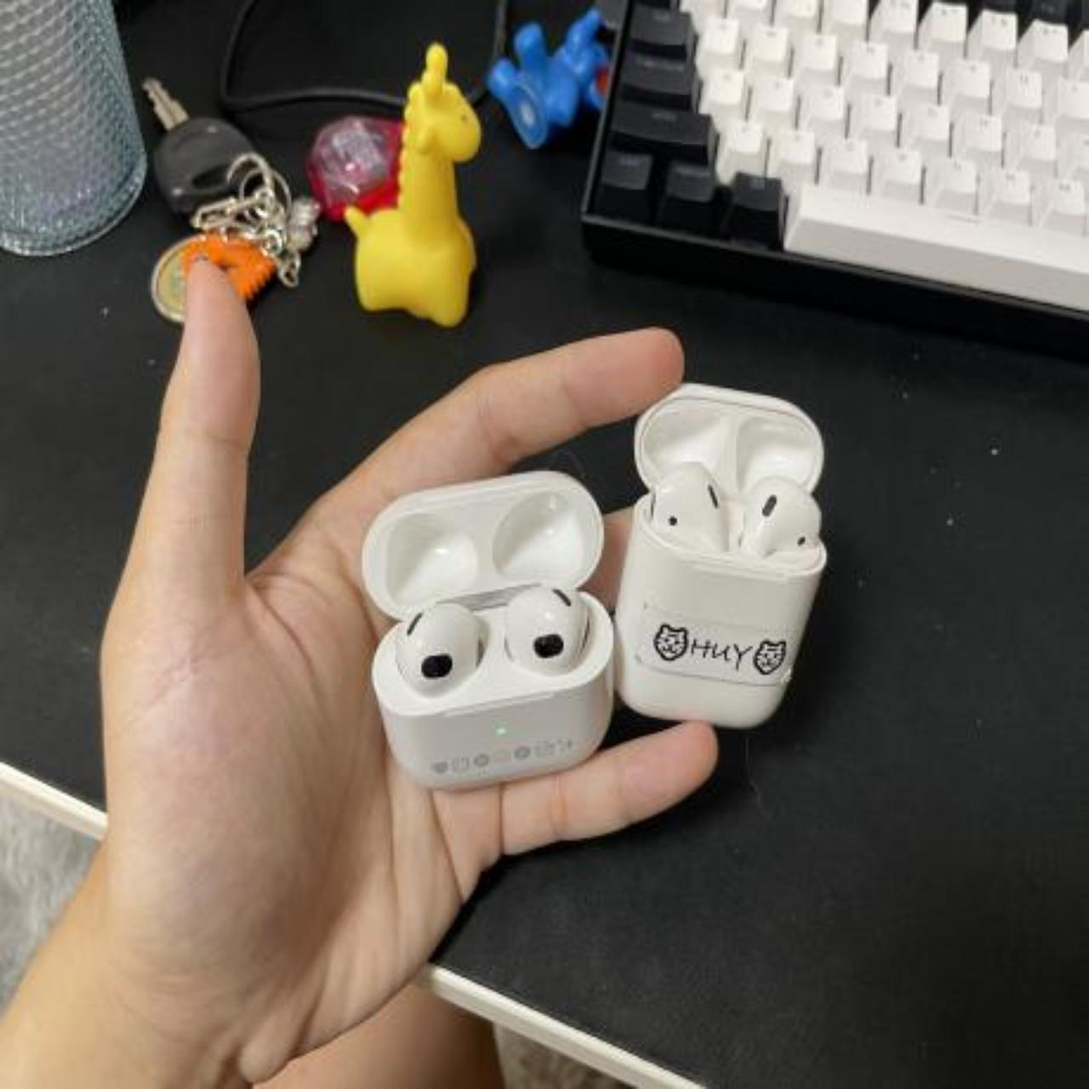AirPods: (612, 354, 841, 749), (357, 467, 624, 804)
